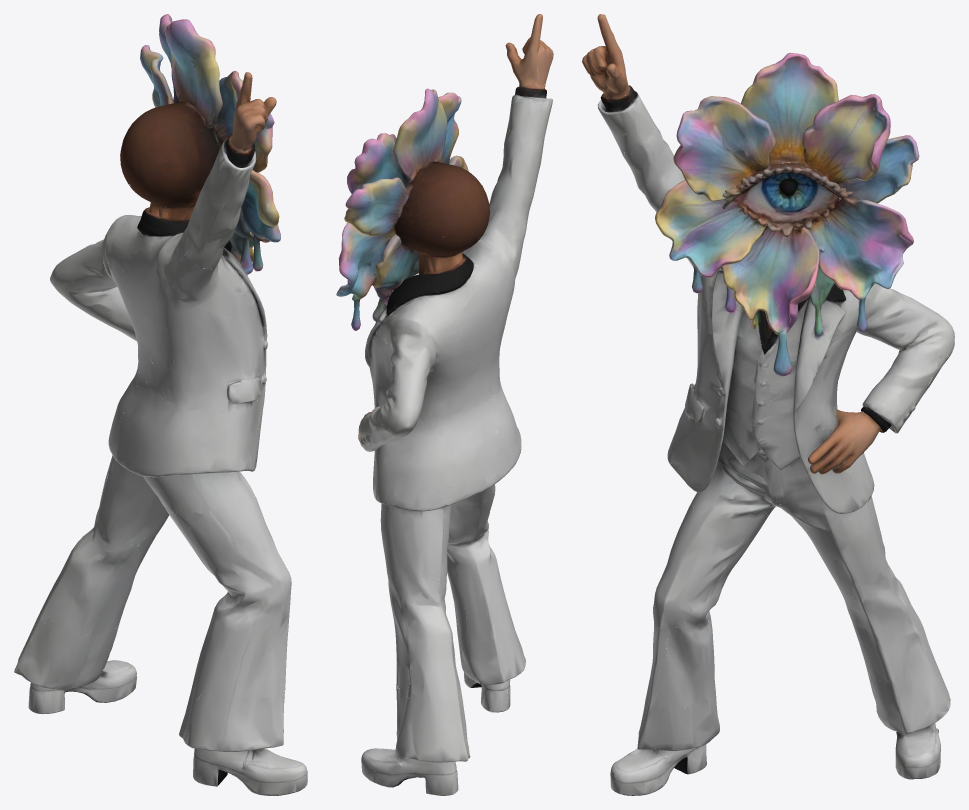
Rendered from discoking.glb.
3 views of the same model, side by side, from view 1: azimuth 30°, elevation 25°; view 2: azimuth 150°, elevation 25°; view 3: azimuth 270°, elevation 25° (orthographic). The views are drawn at different scales.
Visible parts, largest first — view 1: tripo_node_b34096fa-347c-4600-b127-7b8cc124b146; view 2: tripo_node_b34096fa-347c-4600-b127-7b8cc124b146; view 3: tripo_node_b34096fa-347c-4600-b127-7b8cc124b146.
Part boxes in pixels (x1,y1,x2,y2): tripo_node_b34096fa-347c-4600-b127-7b8cc124b146: [14, 14, 307, 795]; tripo_node_b34096fa-347c-4600-b127-7b8cc124b146: [336, 14, 553, 795]; tripo_node_b34096fa-347c-4600-b127-7b8cc124b146: [582, 14, 954, 795].
Bounding box in the file's own units: 0.2447 × 1 × 0.45.
Materials: 1 (1 with a texture image).
